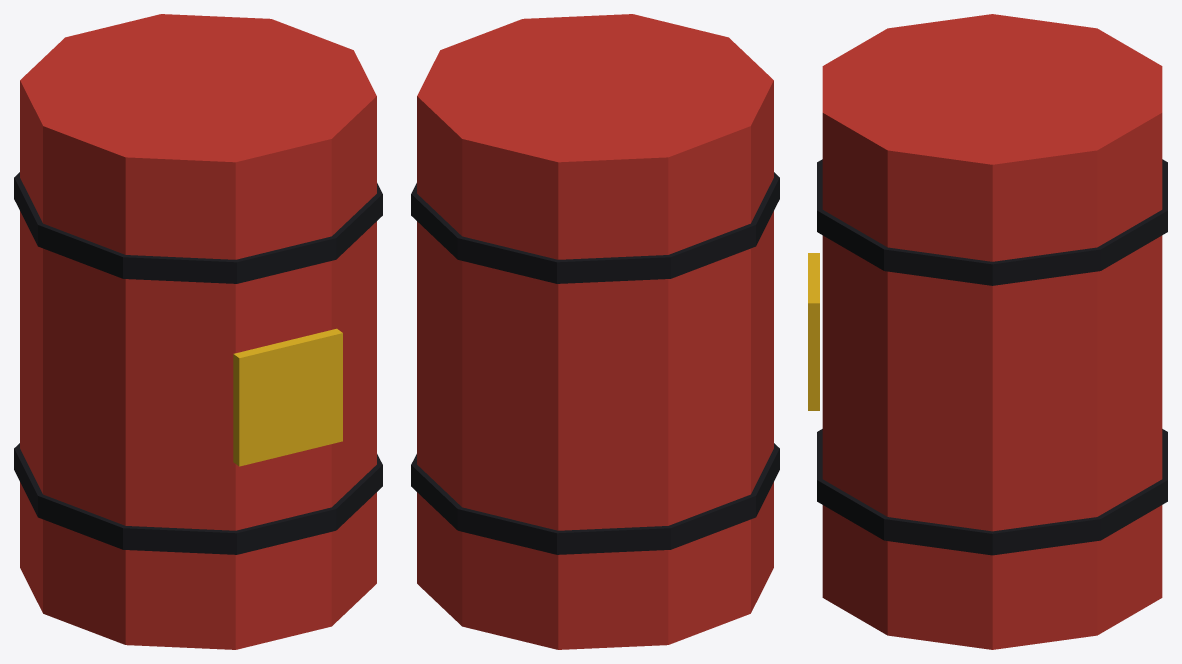
Rendered from barrel.glb.
3 renders of one model, left to right at view 1: azimuth 30°, elevation 25°; view 2: azimuth 150°, elevation 25°; view 3: azimuth 270°, elevation 25°, orthographic.
Visible parts, largest first — view 1: barrel_Body; view 2: barrel_Body; view 3: barrel_Body.
Boxes of the visible parts, x1,y1,x2,y2 form: barrel_Body: [14, 14, 382, 649]; barrel_Body: [411, 14, 779, 649]; barrel_Body: [808, 14, 1167, 649].
Size of the model in its own units: 0.62 by 0.9 by 0.6048.
